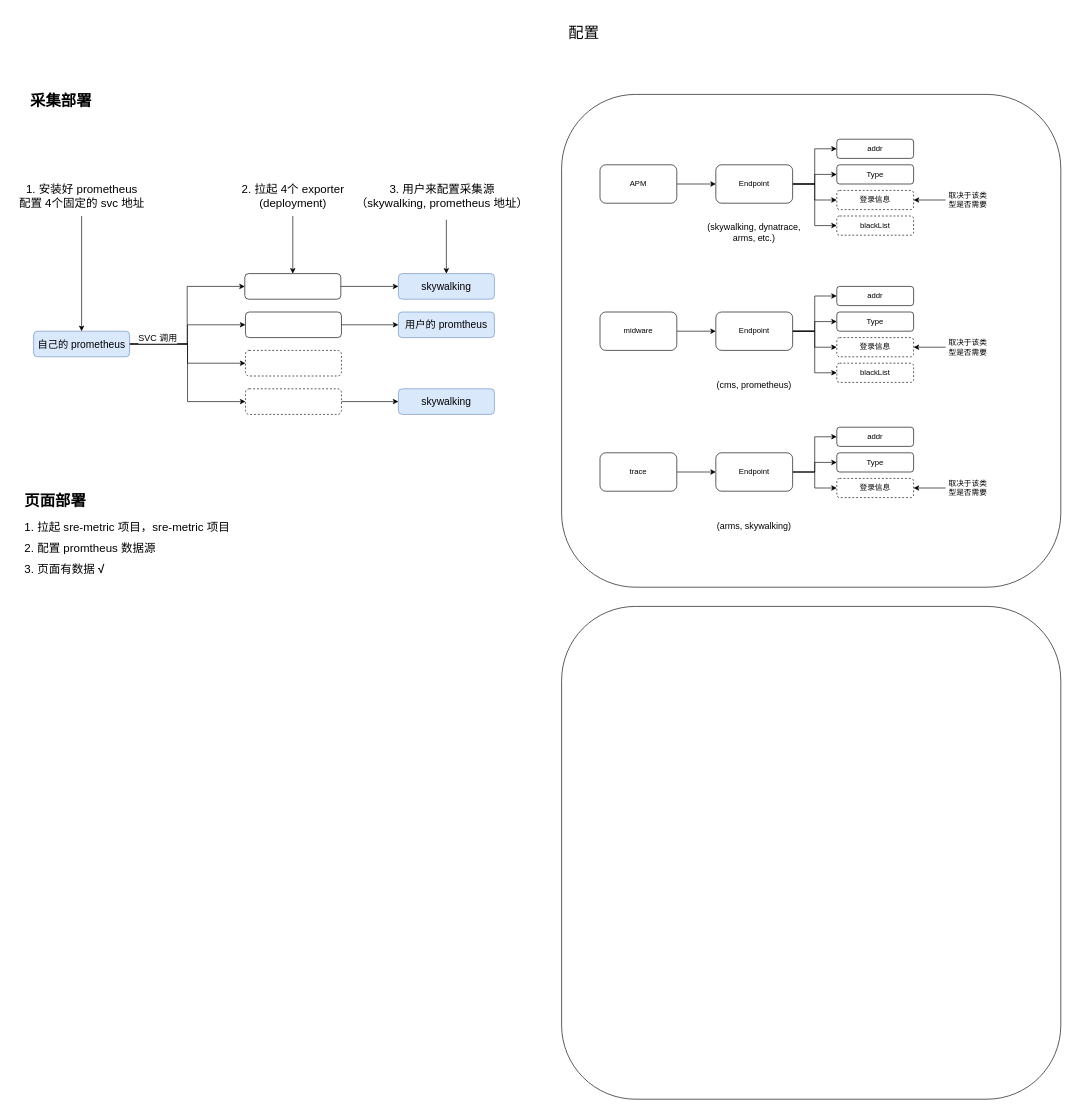
Some shapes in this 1072 by 1110 pixel diagram are drawn without their labels. The shapes that lost their labels are listed below. From the top down, each one's box as (x1, y1, x2, y2) in pixels, then its label:
(244, 273, 341, 299): APM Collector
(245, 311, 341, 338): Midware Collector
(561, 94, 1061, 587): Datasource
(245, 350, 341, 376): Log Collector
(245, 388, 341, 414): Trace Collector
(561, 606, 1061, 1099): Storage
